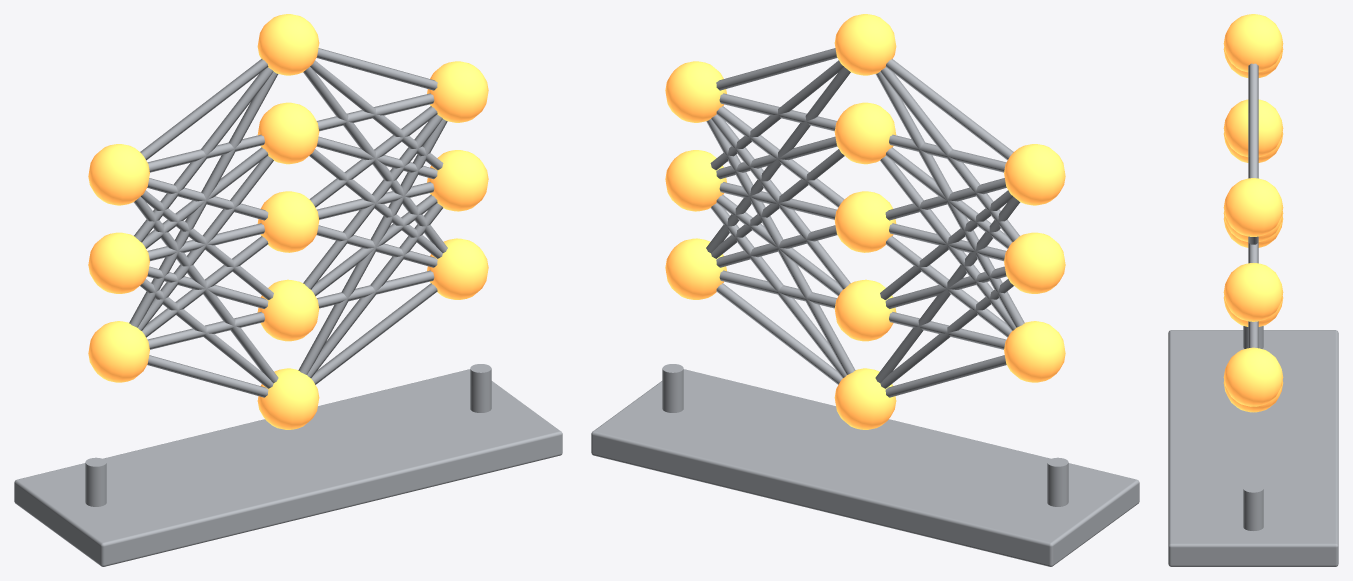
3 views of the same model, side by side, from view 1: azimuth 30°, elevation 25°; view 2: azimuth 150°, elevation 25°; view 3: azimuth 270°, elevation 25° (orthographic). The views are drawn at different scales.
Bounding box in the file's own units: 0.6 × 0.575 × 0.2.
